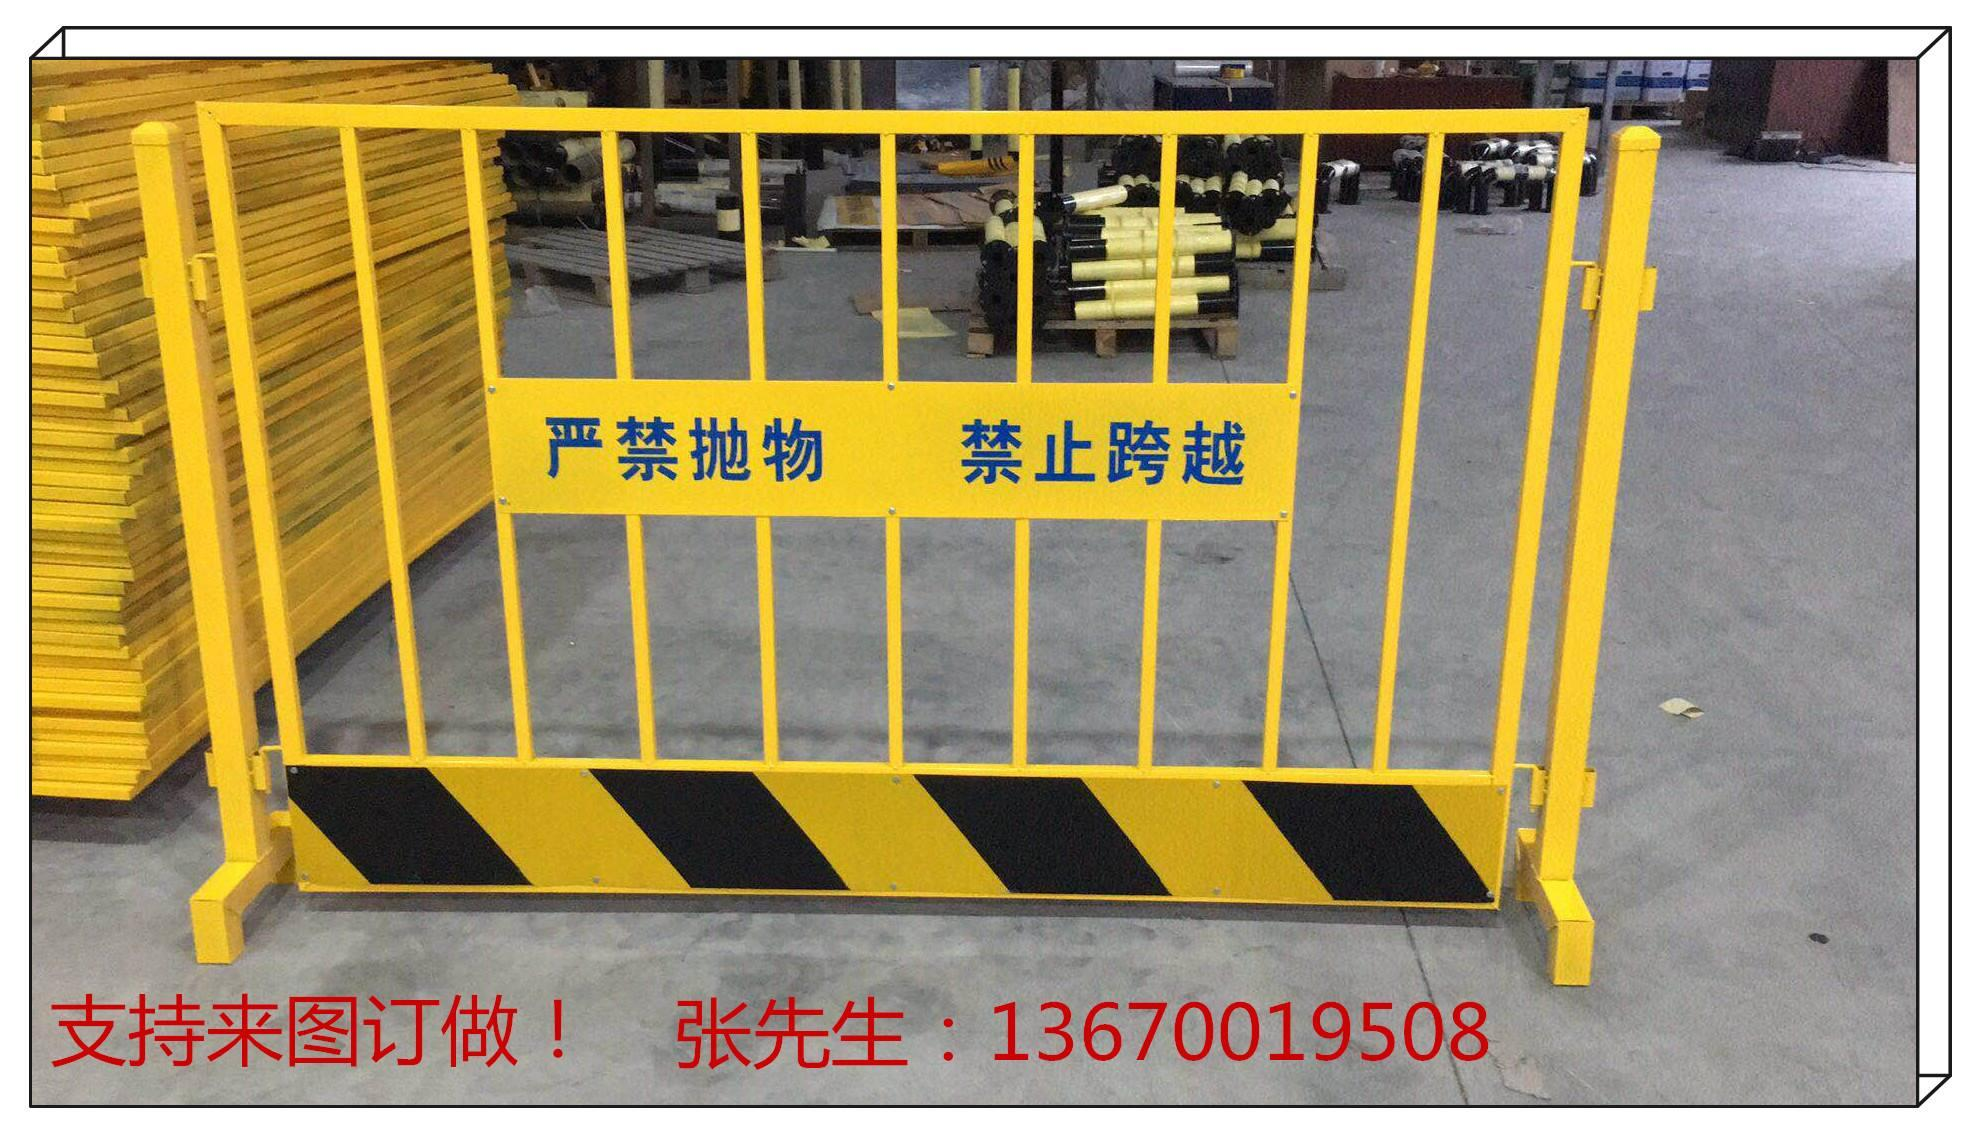sign: (106, 91, 1718, 1001)
